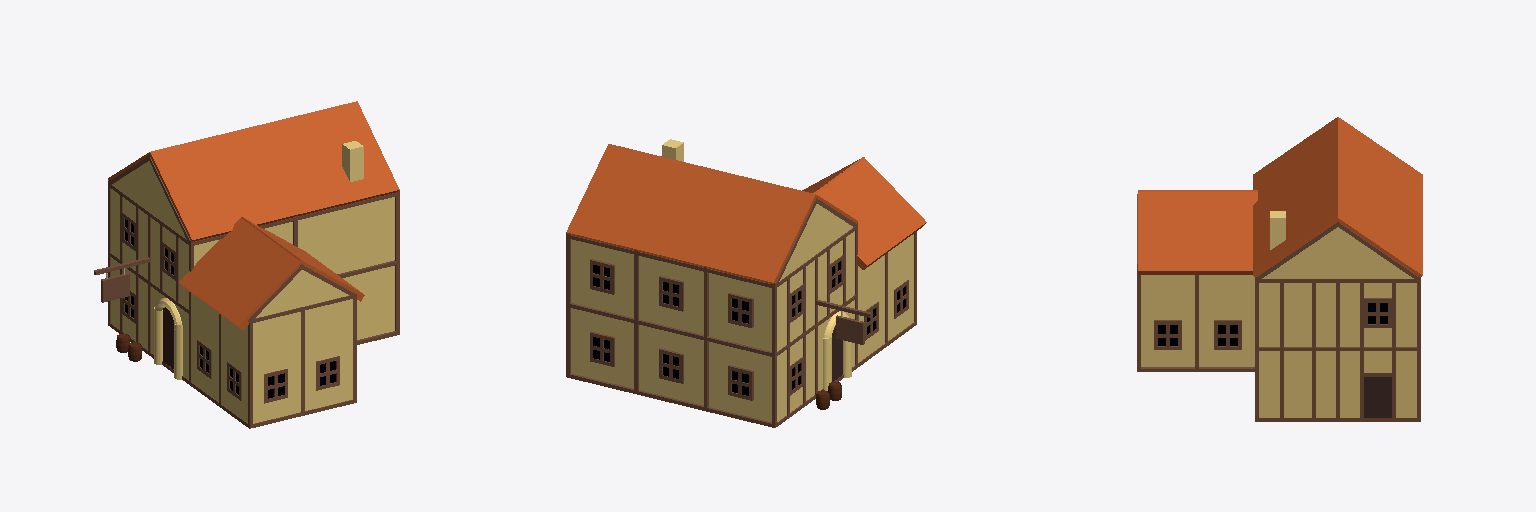
Rendered from timberframedinn_purple_yellow.obj.
3 renders of one model, left to right at view 1: azimuth 30°, elevation 25°; view 2: azimuth 150°, elevation 25°; view 3: azimuth 270°, elevation 25°, orthographic.
Visible parts, largest first — view 1: Cube.007_Cube.011, Cube.005, Cube.054_Cube.057, Cube.067_Cube.072, Cylinder.001, Cube, Cube.006_Cube.010, Cube.066_Cube.071, Cube.065_Cube.070, Cube.012_Cube.017, Cube.073_Cube.078, Cube.018_Cube.016 (+1 smaller); view 2: Cube.005, Cube.007_Cube.011, Cube.067_Cube.072, Cube.054_Cube.057, Cube.023_Cube.026, Cube.022_Cube.025, Cylinder.001, Cube.021_Cube.024, Cube.020_Cube.023, Cube.015_Cube.020, Cube.008, Cube.019_Cube.022 (+7 smaller); view 3: Cube.005, Cube.007_Cube.011, Cube, Cube.054_Cube.057, Cube.003, Cube.033, Cube.009, Cube.004, Cube.031, Cube.032, Cube.027, Cube.012_Cube.017 (+8 smaller).
Part boxes in pixels (left/top/right/bottom): Cube.007_Cube.011: left=108, top=101, right=399, bottom=241; Cube.005: left=111, top=161, right=394, bottom=379; Cube.054_Cube.057: left=191, top=270, right=352, bottom=423; Cube.067_Cube.072: left=179, top=217, right=305, bottom=329; Cylinder.001: left=154, top=298, right=182, bottom=379; Cube: left=241, top=217, right=364, bottom=301; Cube.006_Cube.010: left=342, top=141, right=363, bottom=181; Cube.066_Cube.071: left=264, top=369, right=287, bottom=403; Cube.065_Cube.070: left=316, top=356, right=339, bottom=390; Cube.012_Cube.017: left=395, top=190, right=399, bottom=334; Cube.073_Cube.078: left=101, top=273, right=129, bottom=302; Cube.018_Cube.016: left=191, top=193, right=395, bottom=245; Cube.005: left=571, top=204, right=854, bottom=421; Cube.007_Cube.011: left=566, top=144, right=857, bottom=283; Cube.067_Cube.072: left=813, top=157, right=926, bottom=269; Cube.054_Cube.057: left=858, top=234, right=913, bottom=362; Cube.023_Cube.026: left=567, top=374, right=771, bottom=426; Cube.022_Cube.025: left=567, top=303, right=771, bottom=356; Cylinder.001: left=823, top=311, right=851, bottom=390; Cube.021_Cube.024: left=567, top=235, right=771, bottom=287; Cube.020_Cube.023: left=728, top=365, right=753, bottom=400; Cube.015_Cube.020: left=728, top=293, right=753, bottom=327; Cube.008: left=590, top=259, right=614, bottom=294; Cube.019_Cube.022: left=659, top=348, right=683, bottom=383; Cube.005: left=1259, top=227, right=1416, bottom=417; Cube.007_Cube.011: left=1253, top=117, right=1422, bottom=276; Cube: left=1138, top=192, right=1257, bottom=274; Cube.054_Cube.057: left=1141, top=275, right=1254, bottom=366; Cube.003: left=1364, top=377, right=1391, bottom=417; Cube.033: left=1364, top=298, right=1391, bottom=327; Cube.009: left=1154, top=320, right=1181, bottom=349; Cube.004: left=1214, top=320, right=1241, bottom=349; Cube.031: left=1258, top=418, right=1417, bottom=421; Cube.032: left=1258, top=279, right=1416, bottom=282; Cube.027: left=1417, top=277, right=1420, bottom=421; Cube.012_Cube.017: left=1255, top=277, right=1258, bottom=421.
Size of the model in its own units: 15.3 by 11.25 by 14.29.